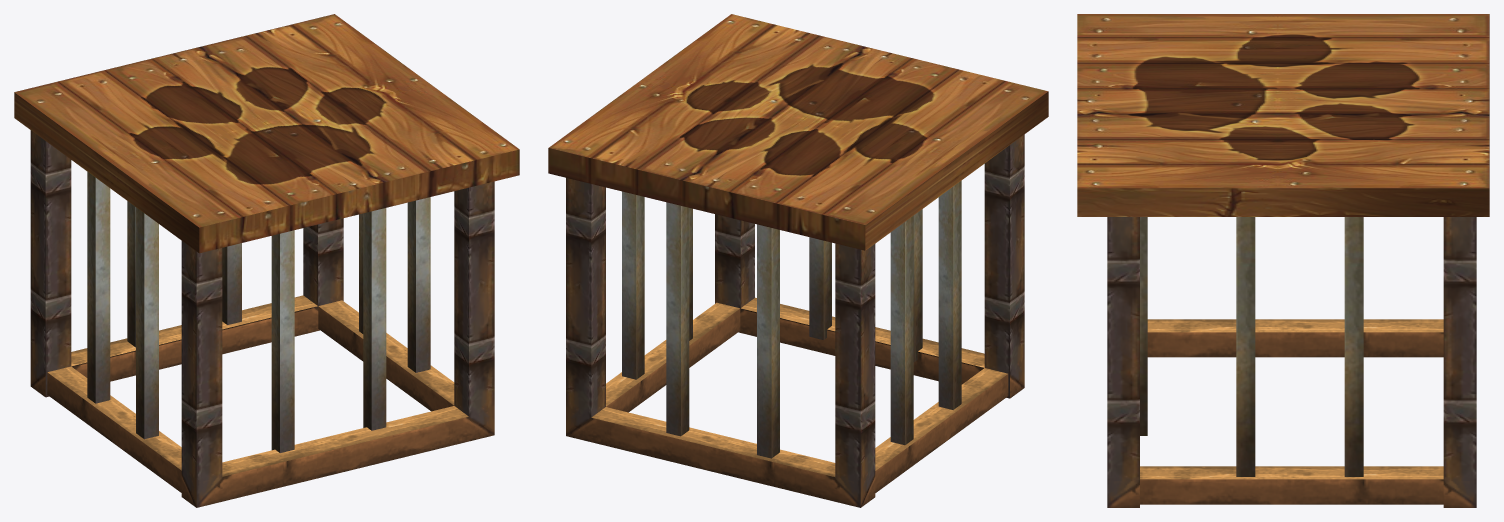
The model's file is longzi.FBX.
3 views of the same model, side by side, from view 1: azimuth 30°, elevation 25°; view 2: azimuth 150°, elevation 25°; view 3: azimuth 270°, elevation 25° (orthographic). The views are drawn at different scales.
Parts seen in each view (by area): view 1: box; view 2: box; view 3: box.
Part boxes in pixels (x1=…): box: x1=14, y1=14, x2=519, y2=507; box: x1=548, y1=14, x2=1048, y2=507; box: x1=1077, y1=14, x2=1489, y2=507.
Size of the model in its own units: 5 by 4.36 by 5.
